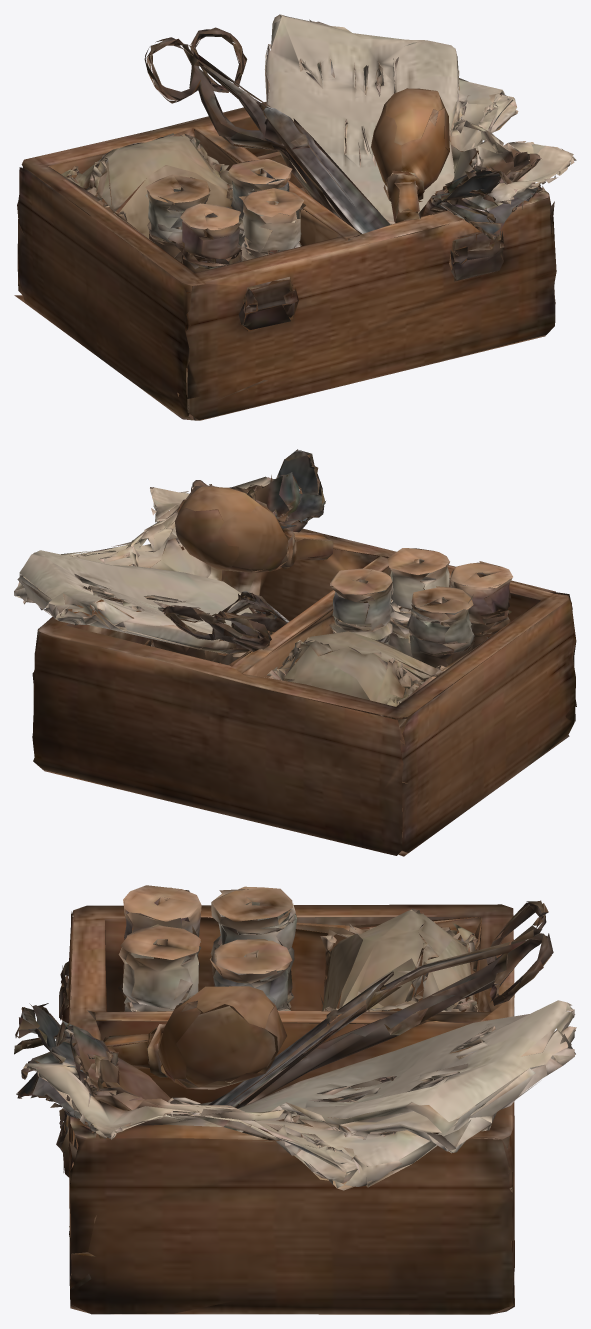
Rendered from int-repair-mending-cluster.glb.
The picture shows the model from 3 angles, top to bottom: view 1: azimuth 30°, elevation 25°; view 2: azimuth 150°, elevation 25°; view 3: azimuth 270°, elevation 25°; orthographic projection. The views are drawn at different scales.
Parts seen in each view (by area): view 1: Mesh_0; view 2: Mesh_0; view 3: Mesh_0.
Boxes of the visible parts, x1,y1,x2,y2 form: Mesh_0: [14, 14, 576, 420]; Mesh_0: [14, 449, 576, 856]; Mesh_0: [14, 885, 576, 1314].
Size of the model in its own units: 1.9 by 0.8921 by 1.63.
1 material, 1 textured.
